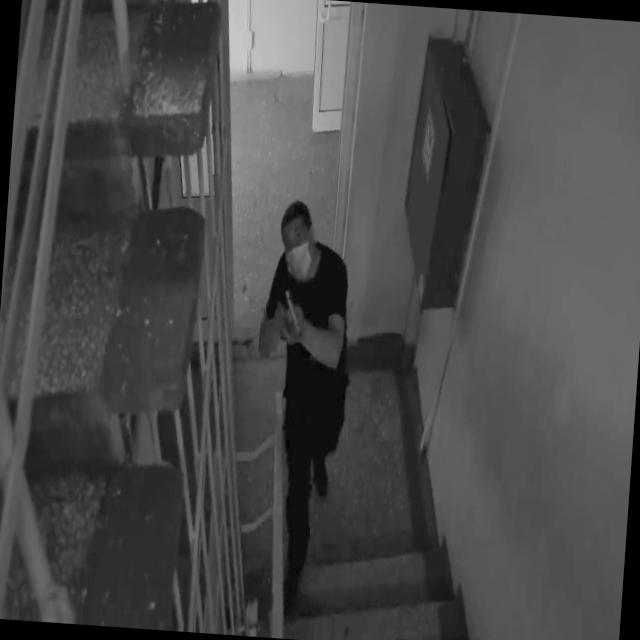gun: (279, 288, 305, 346)
person with a gun: (243, 198, 360, 572)
